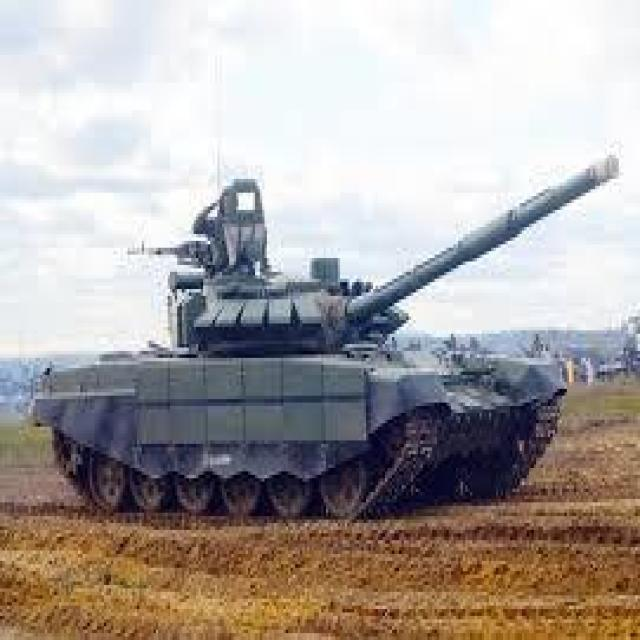Tanks: (31, 160, 609, 511)
